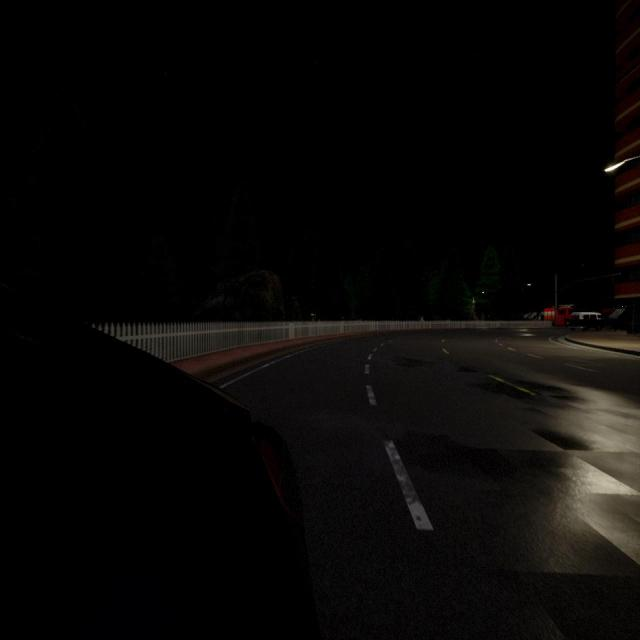Vehicle: (0, 297, 313, 640), (571, 312, 604, 330), (544, 306, 572, 326)
